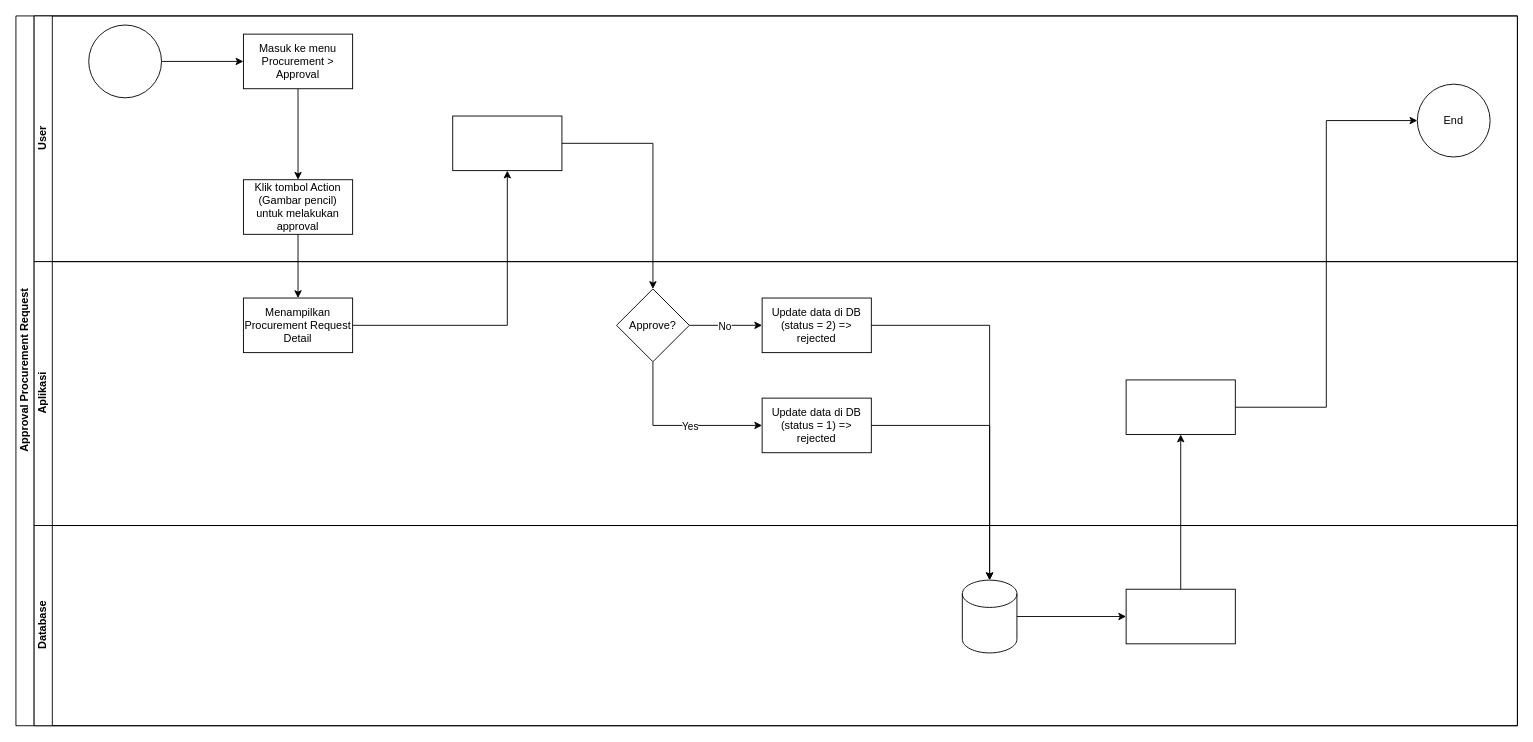
This 1533x742 diagram has some shape labels left out. The shapes that lost their labels are listed below. From the top down, each one's centre as x and y in pixels, then its label:
[125,61]: Start
[507,143]: Mengulas data yang sudah dimasukkan oleh requestor dan mengambil tindakan
[1180,407]: Menampilkan message "Berhasil tersimpan"
[989,616]: Menyimpan data
[1180,616]: Data berhasil tersimpan
